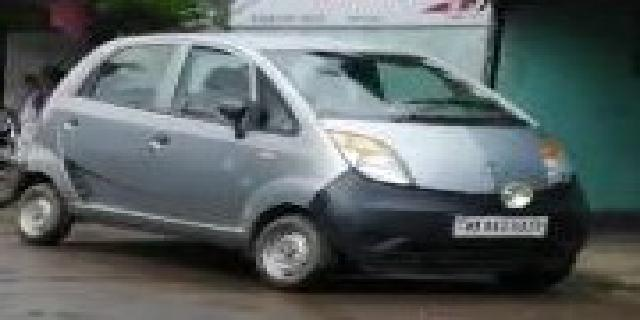Car: (8, 28, 598, 280)
